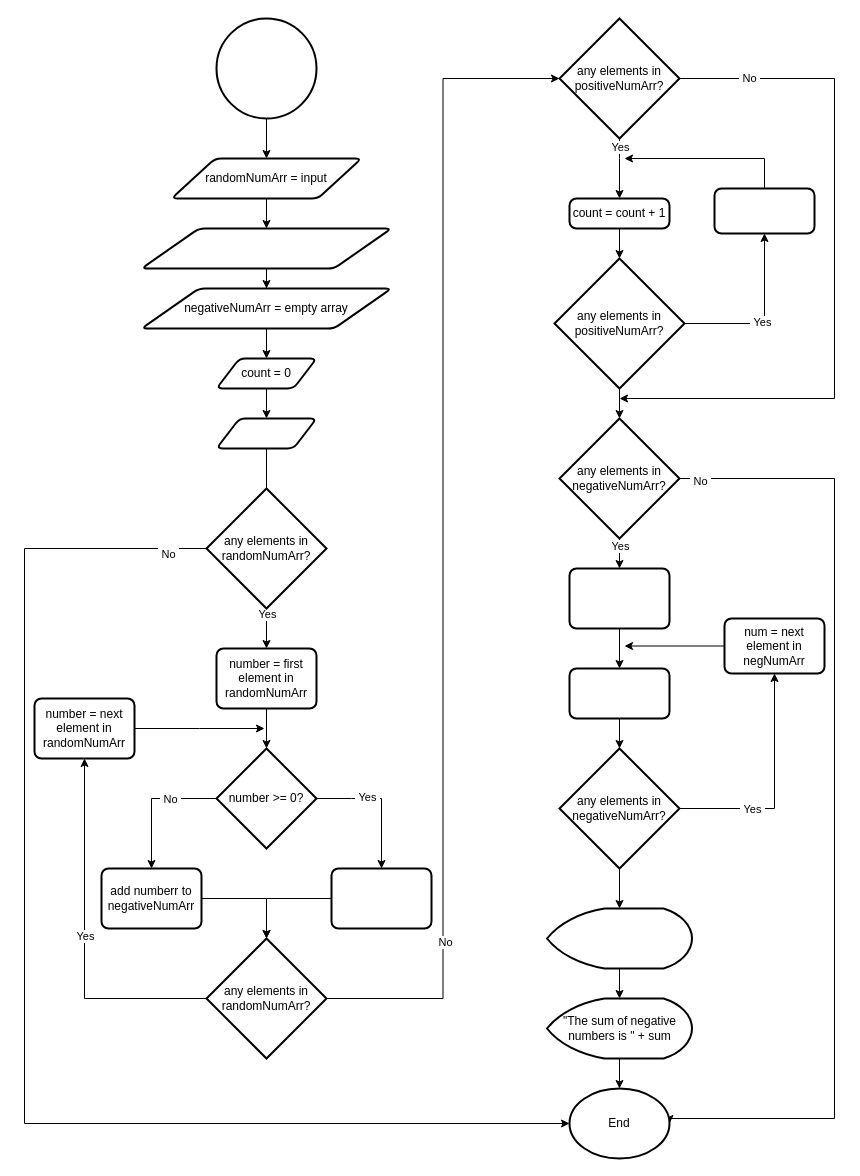
This 860x1176 diagram has some shape labels left out. The shapes that lost their labels are listed below. From the top down, each one's box as (x1, y1, x2, y2) in pixels, then its label:
(215, 17, 317, 119): Start
(713, 187, 815, 234): iterate to next number in posNumArr
(140, 227, 392, 269): positiveNumArr = empty array
(215, 417, 317, 449): sum = 0
(568, 567, 670, 629): num = first element in negNumArr
(568, 667, 670, 719): sum = sum + num
(330, 867, 432, 929): add number to positiveNumArr
(546, 907, 692, 969): "The count of positive numbers is " + count
